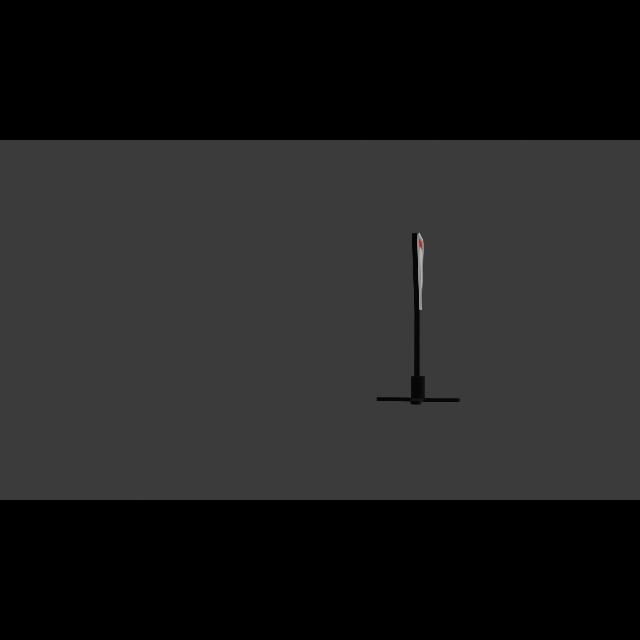sign_yield: (414, 235, 427, 313)
